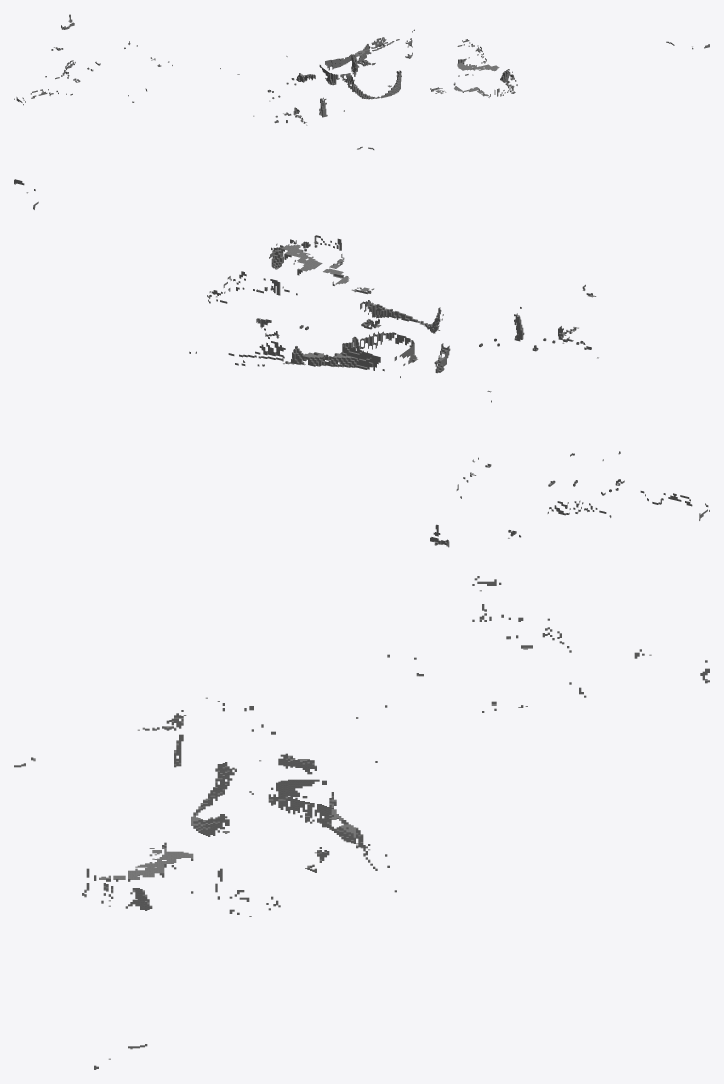
The model's file is Stone.fbx.
The picture shows the model from 3 angles, top to bottom: view 1: azimuth 30°, elevation 25°; view 2: azimuth 150°, elevation 25°; view 3: azimuth 270°, elevation 25°; orthographic projection. The views are drawn at different scales.
Parts seen in each view (by area): view 1: Stone; view 2: Stone; view 3: Stone.
Boxes of the visible parts, x1,y1,x2,y2 form: Stone: [14, 14, 709, 149]; Stone: [14, 179, 709, 547]; Stone: [14, 576, 709, 1069].
Bounding box in the file's own units: 47100 × 1700 × 28700.
1 material, 1 textured.
